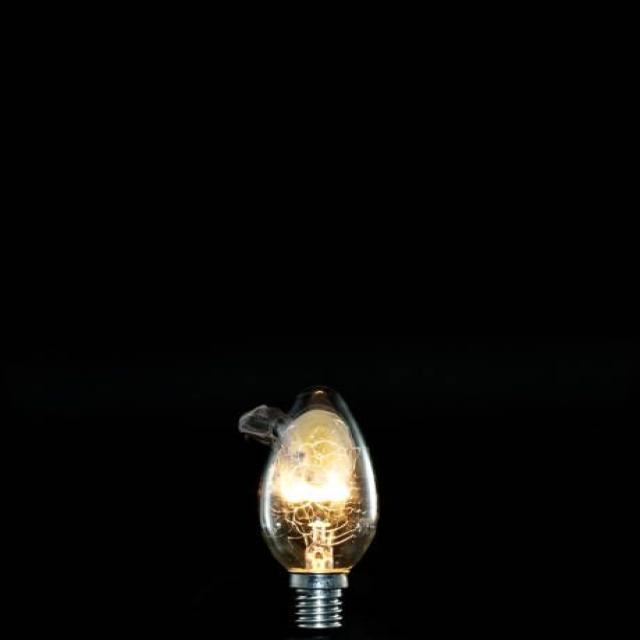electronic: (236, 383, 380, 630)
